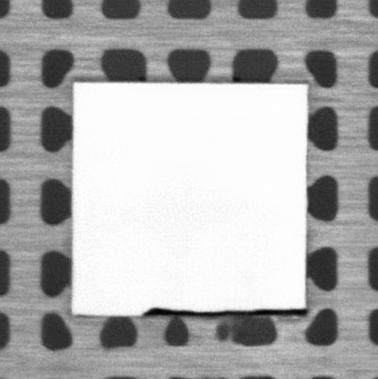DIE_BROKEN: (139, 306, 308, 318)
